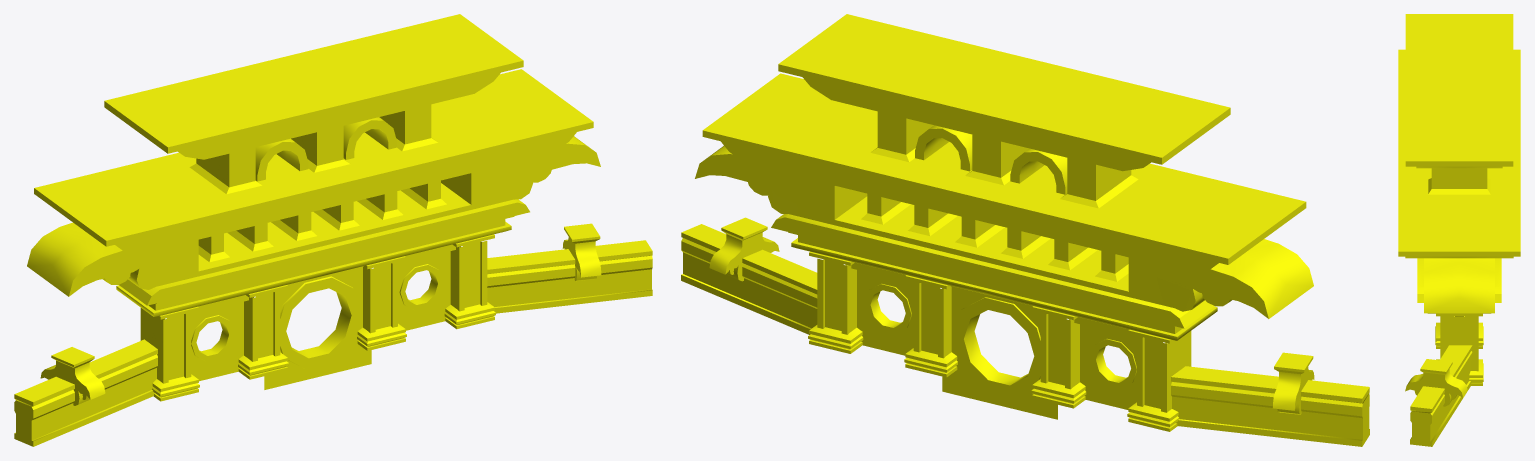
Rendered from 2st_gate_001.glb.
3 views of the same model, side by side, from view 1: azimuth 30°, elevation 25°; view 2: azimuth 150°, elevation 25°; view 3: azimuth 270°, elevation 25° (orthographic). The views are drawn at different scales.
Visible parts, largest first — view 1: 4st_gate_001; view 2: 4st_gate_001; view 3: 4st_gate_001.
Boxes of the visible parts, x1,y1,x2,y2 form: 4st_gate_001: (14,14,652,446); 4st_gate_001: (681,14,1369,446); 4st_gate_001: (1398,14,1520,446).
Bounding box in the file's own units: 37.24 × 16.54 × 7.38.
4 materials, 4 textured.
